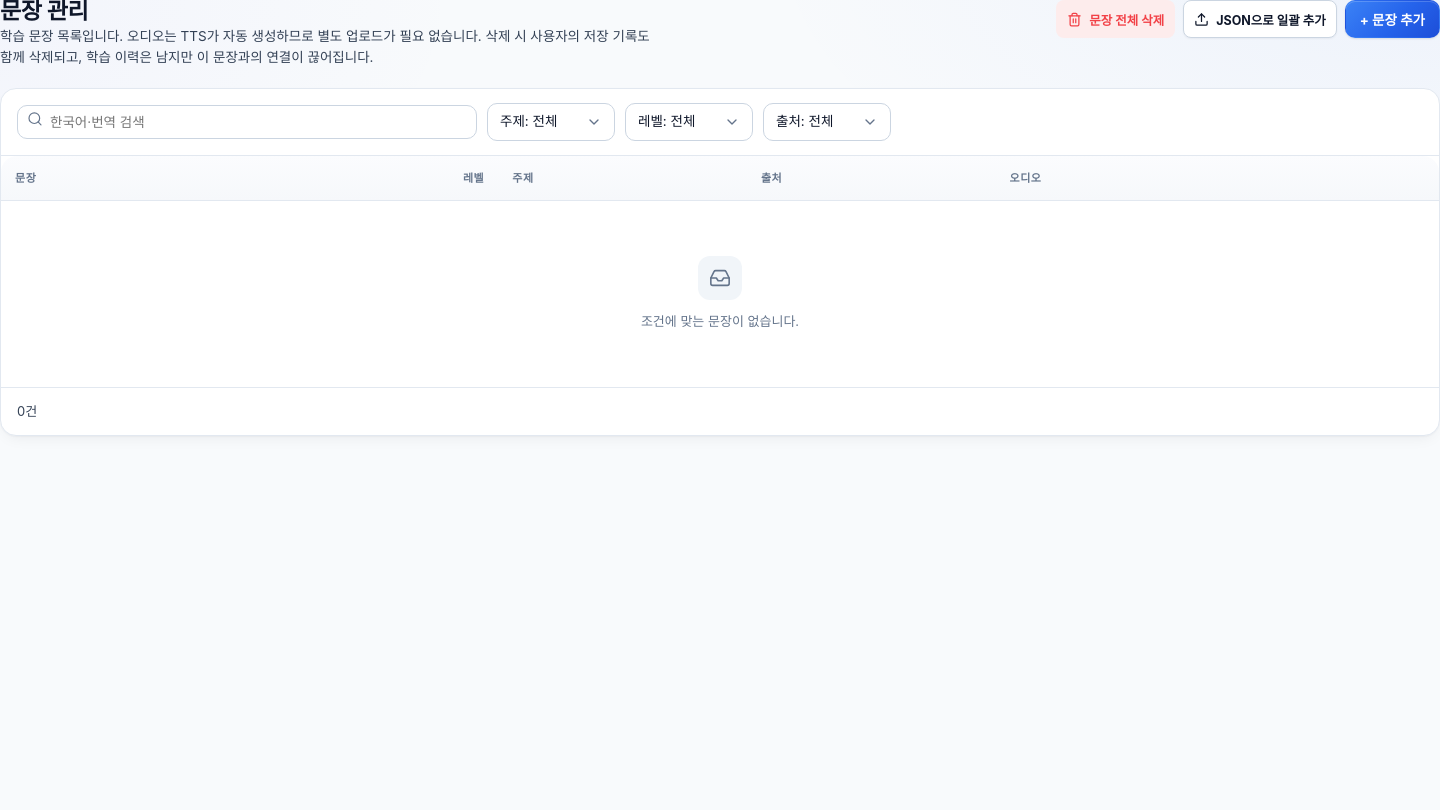
SentencesPage filters › names the topic being typed, or says it is new
The image size is (1440, 810).
Click the button "+ 문장 추가" at coordinates (1392, 19), box top-left (1345, 0), bottom-right (1439, 38)
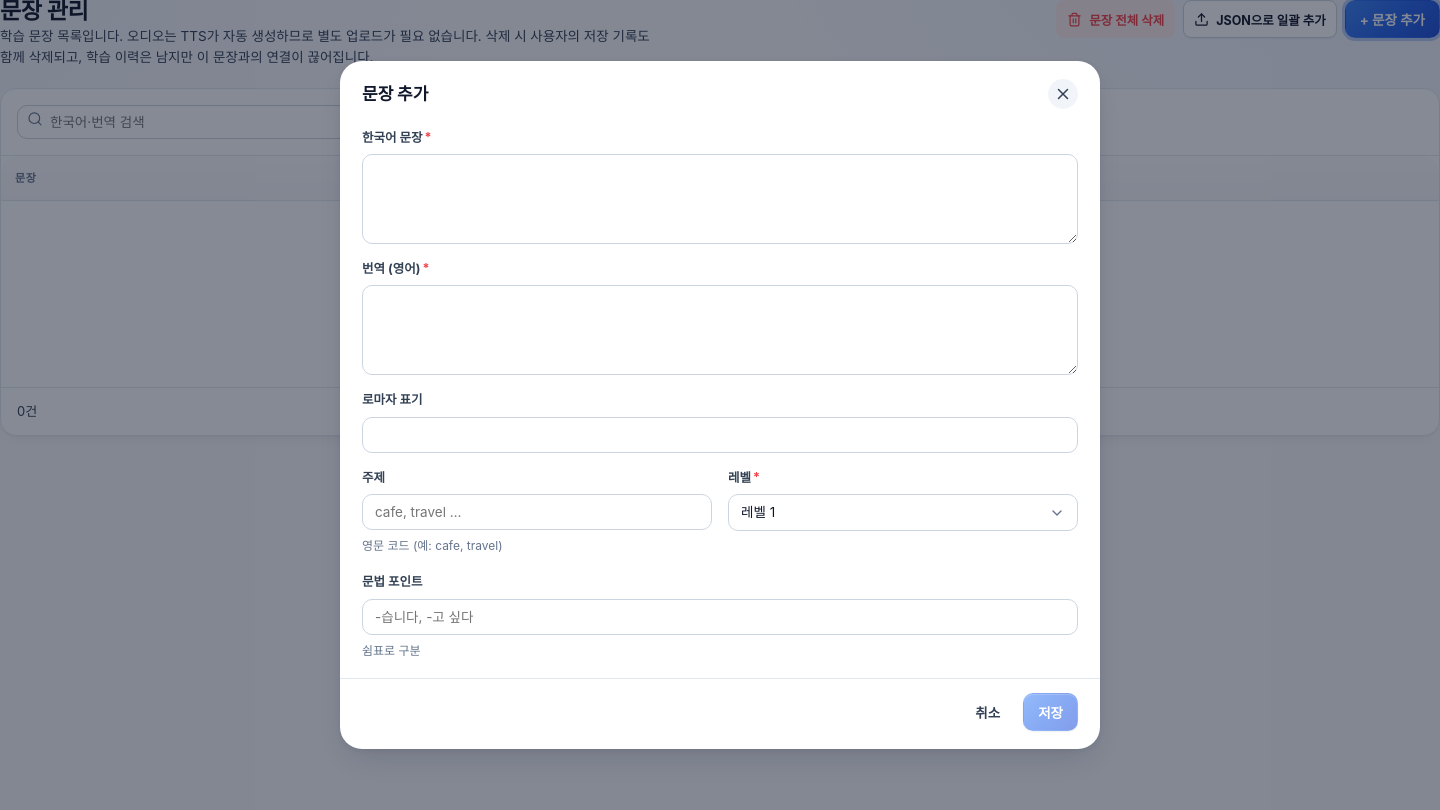
Type "sustainability" into the field labelled "주제 영문 코드 (예: cafe, travel)" at coordinates (537, 512), box top-left (362, 494), bottom-right (712, 530)
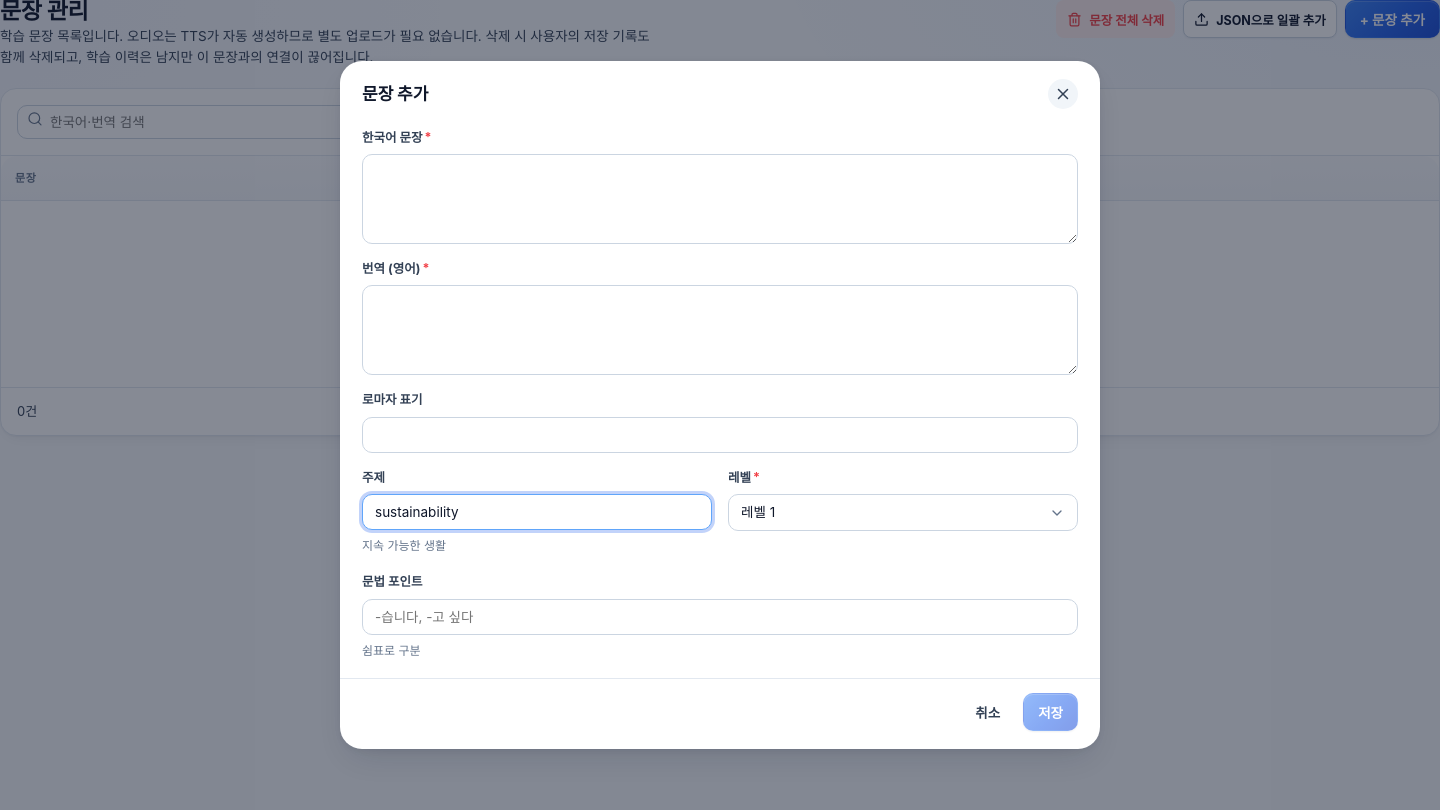
Now the text "지속 가능한 생활" is shown, box top-left (362, 538), bottom-right (446, 553)
Replace the text in the field labelled "주제 지속 가능한 생활" with "brand_new" at coordinates (537, 512), box top-left (362, 494), bottom-right (712, 530)
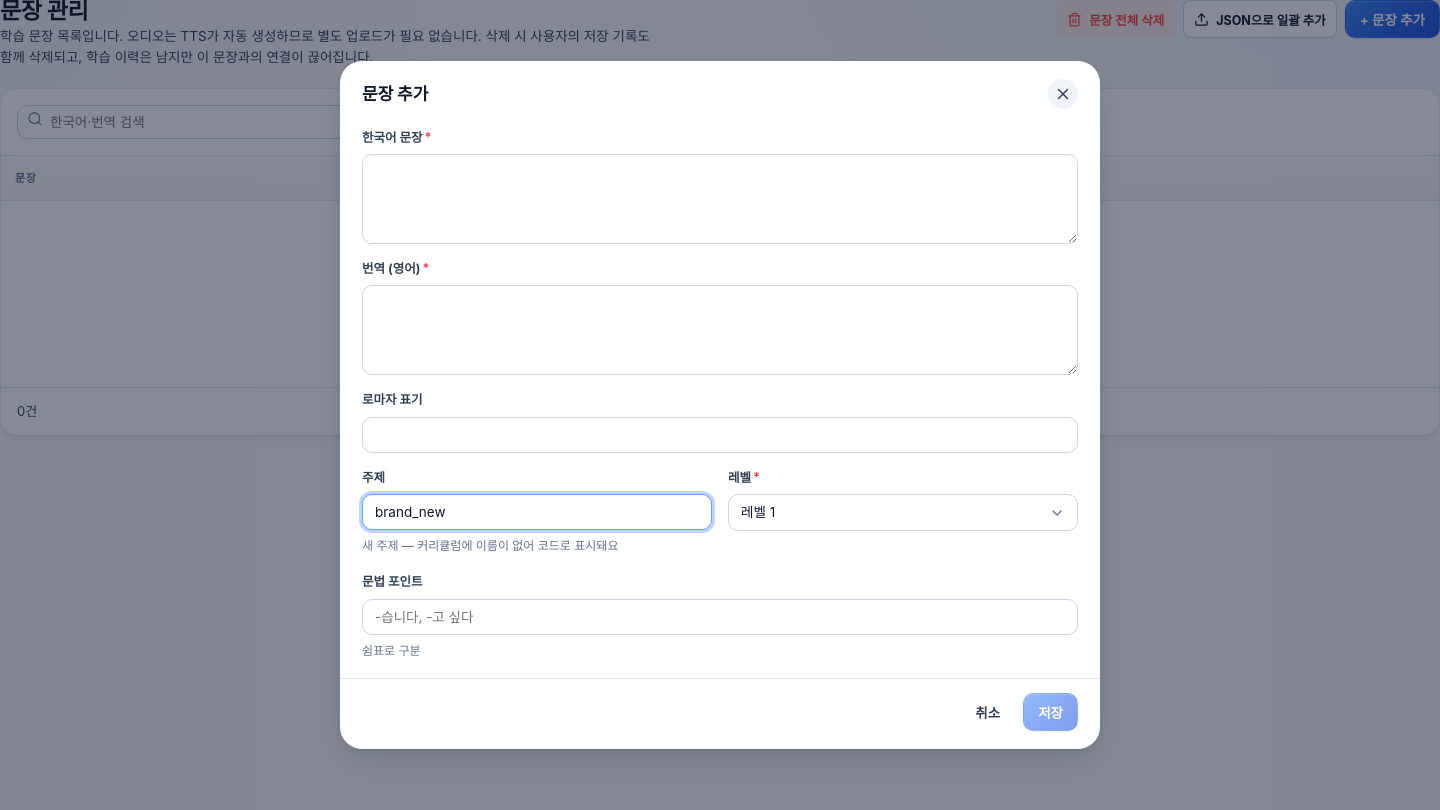
Now the text "새 주제 — 커리큘럼에 이름이 없어 코드로 표시돼요" is shown, box top-left (362, 538), bottom-right (618, 553)
